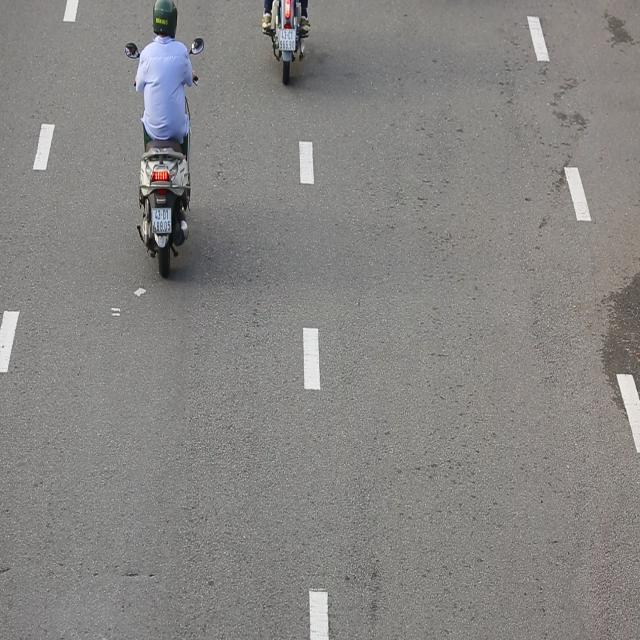motorbike: (125, 0, 200, 275)
